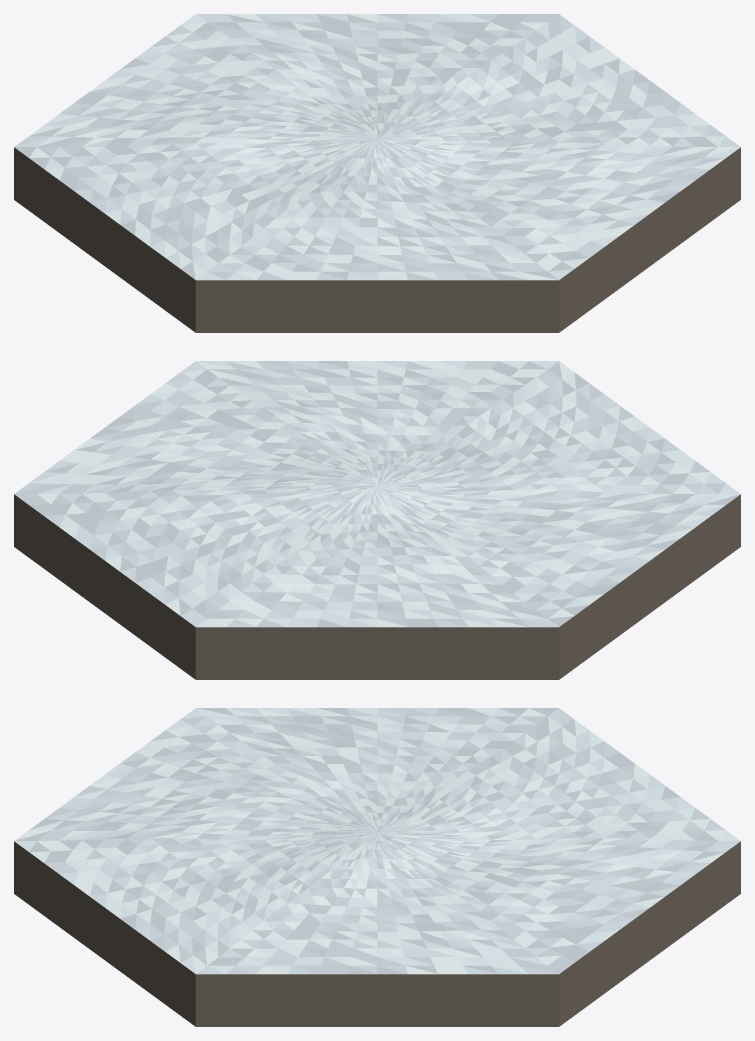
File: TERRAIN_SNOW_v01.fbx
3 renders of one model, top to bottom at view 1: azimuth 30°, elevation 25°; view 2: azimuth 150°, elevation 25°; view 3: azimuth 270°, elevation 25°, orthographic.
Visible parts, largest first — view 1: TERRAIN_SNOW_v01; view 2: TERRAIN_SNOW_v01; view 3: TERRAIN_SNOW_v01.
Boxes of the visible parts, x1,y1,x2,y2 form: TERRAIN_SNOW_v01: (14,14,740,332); TERRAIN_SNOW_v01: (14,361,740,679); TERRAIN_SNOW_v01: (14,708,740,1026).
Size of the model in its own units: 173 by 18.57 by 200.
